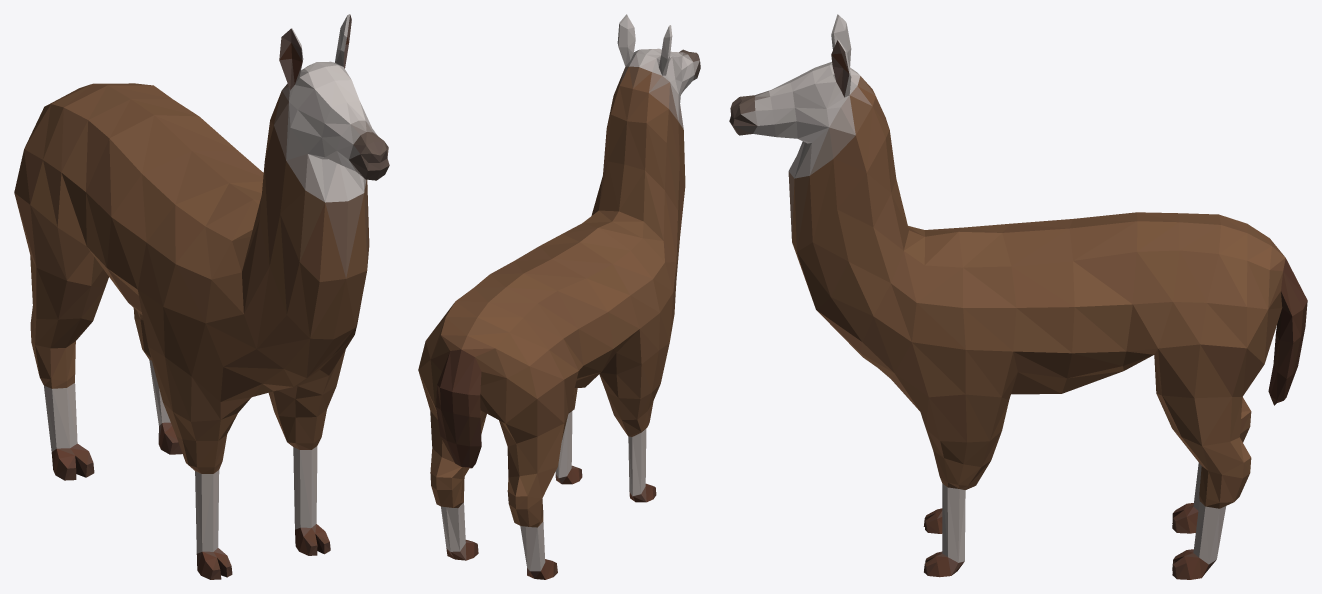
Rendered from llama.glb.
3 renders of one model, left to right at view 1: azimuth 30°, elevation 25°; view 2: azimuth 150°, elevation 25°; view 3: azimuth 270°, elevation 25°, orthographic. The views are drawn at different scales.
Visible parts, largest first — view 1: zoo-llama; view 2: zoo-llama; view 3: zoo-llama.
Boxes of the visible parts, <box> form: zoo-llama: <box>14,14,389,579</box>; zoo-llama: <box>418,14,700,579</box>; zoo-llama: <box>729,14,1307,579</box>.
Bounding box in the file's own units: 0.5614 × 1.75 × 1.76.
